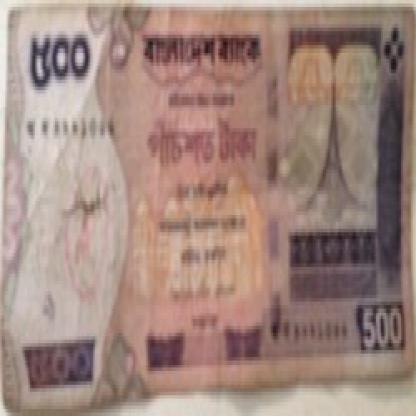500 taka: (20, 28, 101, 86), (354, 294, 410, 367)
